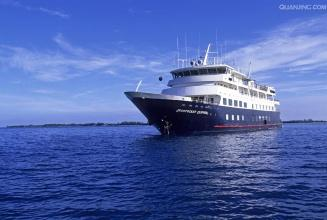youlun: (122, 54, 290, 129)
